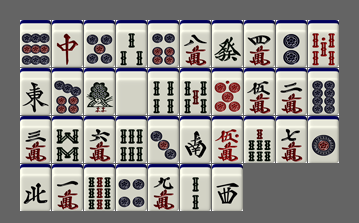0m: (212, 116, 243, 163)
0p: (212, 68, 243, 115)
0s: (308, 20, 339, 67)
1m: (52, 164, 83, 211)
1p: (308, 116, 339, 163)
1s: (84, 68, 115, 115)
1z: (20, 68, 51, 115)
2m: (276, 68, 307, 115)
2p: (276, 20, 307, 67)
2s: (180, 164, 211, 211)
2z: (180, 116, 211, 163)
3m: (20, 116, 51, 163)
3p: (148, 116, 179, 163)
3s: (116, 20, 147, 67)
3z: (212, 164, 243, 211)
4m: (244, 20, 275, 67)
4p: (116, 164, 147, 211)
4s: (148, 68, 179, 115)
4z: (20, 164, 51, 211)
5m: (244, 68, 275, 115)
5p: (84, 20, 115, 67)
5s: (180, 68, 211, 115)
5z: (116, 68, 147, 115)
6m: (84, 116, 115, 163)
6p: (148, 20, 179, 67)
6s: (116, 116, 147, 163)
6z: (212, 20, 243, 67)
7m: (276, 116, 307, 163)
7p: (52, 68, 83, 115)
7s: (244, 116, 275, 163)
7z: (52, 20, 83, 67)
8m: (180, 20, 211, 67)
8p: (308, 68, 339, 115)
8s: (52, 116, 83, 163)
9m: (148, 164, 179, 211)
9p: (20, 20, 51, 67)
9s: (84, 164, 115, 211)
